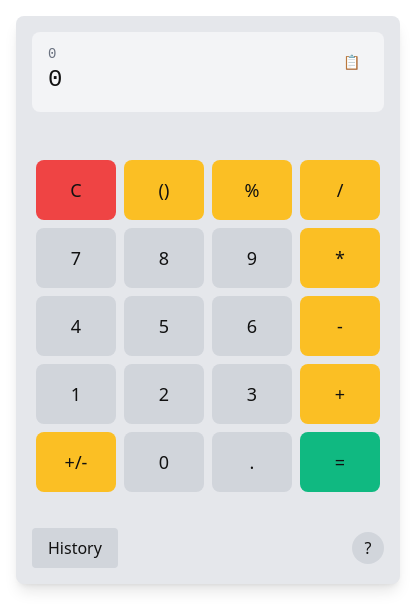
Calculator integration with testIds › calculates 50% → 0.5
Click the button with test id "key-5" at [164, 326], box 124,296 -> 204,356
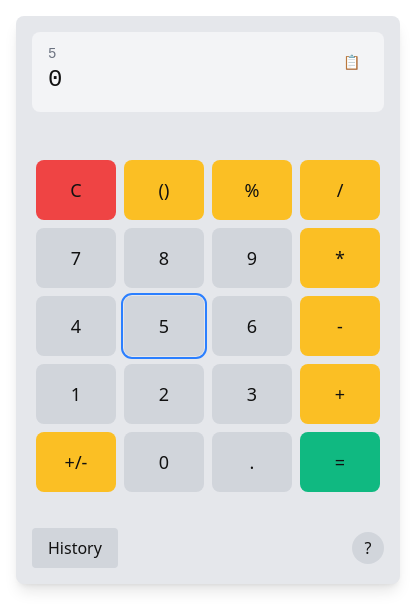
Click the button with test id "key-0" at [164, 462], box 124,432 -> 204,492
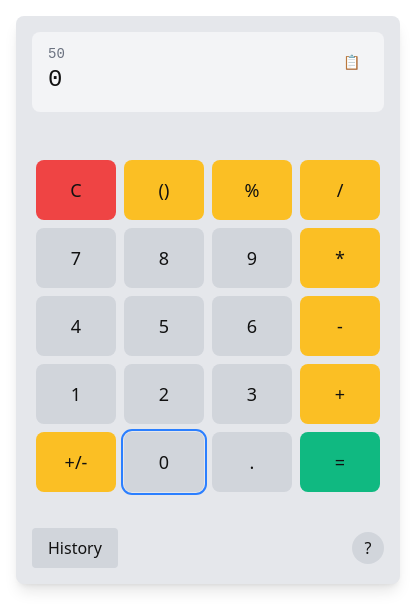
Click the button with test id "key-%" at [252, 190], box 212,160 -> 292,220
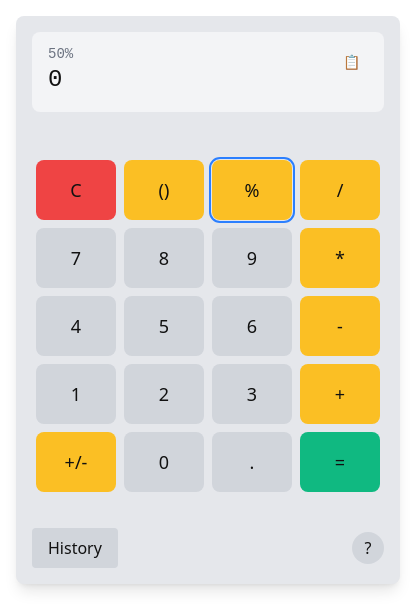
Click the button with test id "key-=" at [340, 462], box 300,432 -> 380,492
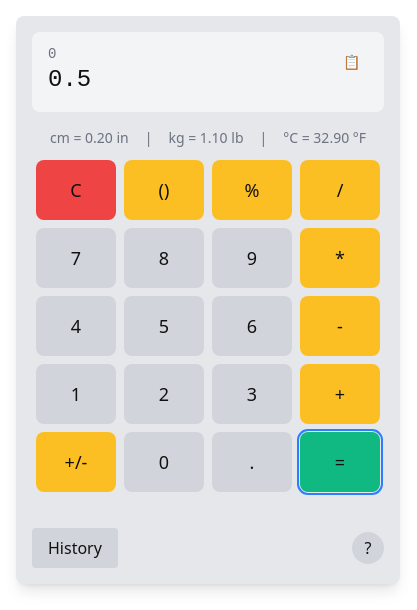
Expected: the text with test id "result" reads "0.5", 48,66 -> 91,93
